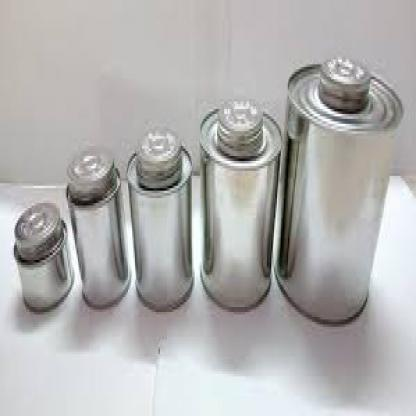METAL: (273, 50, 402, 324), (198, 94, 281, 312), (124, 124, 192, 314), (65, 148, 131, 310), (13, 200, 72, 310)
